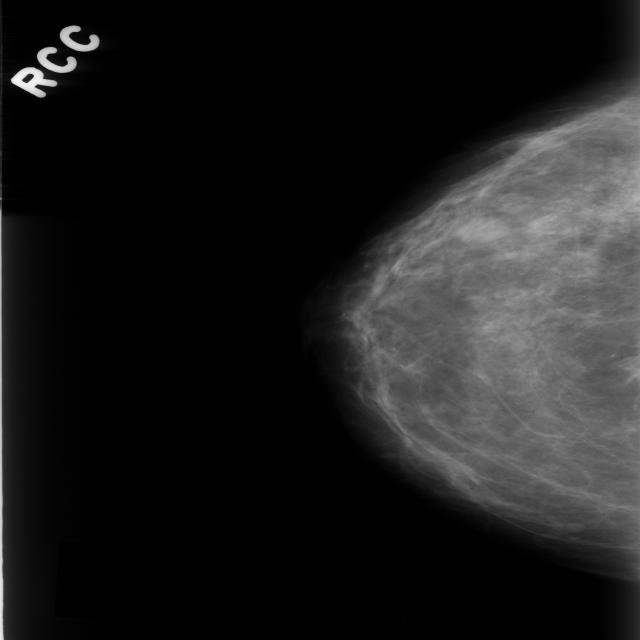normal: (308, 76, 640, 586)
